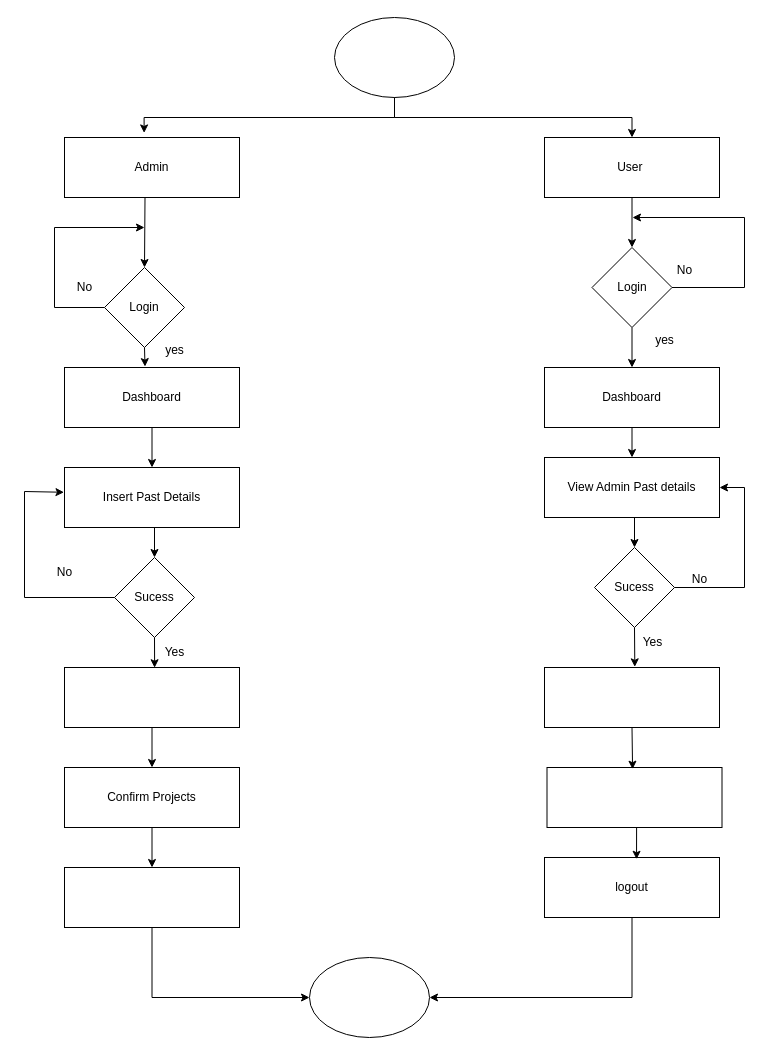
Some shapes in this 770 by 1055 pixel diagram are drawn without their labels. The box of each missing label's shape, as (x1, y1, x2, y2) in pixels:
Book Admin For the Project: (544, 666, 720, 728)
Log Out: (64, 866, 240, 928)
Management projects and own accounts: (64, 666, 240, 728)
Start: (334, 16, 454, 98)
Stop: (308, 956, 430, 1038)
Track project: (546, 766, 722, 828)
